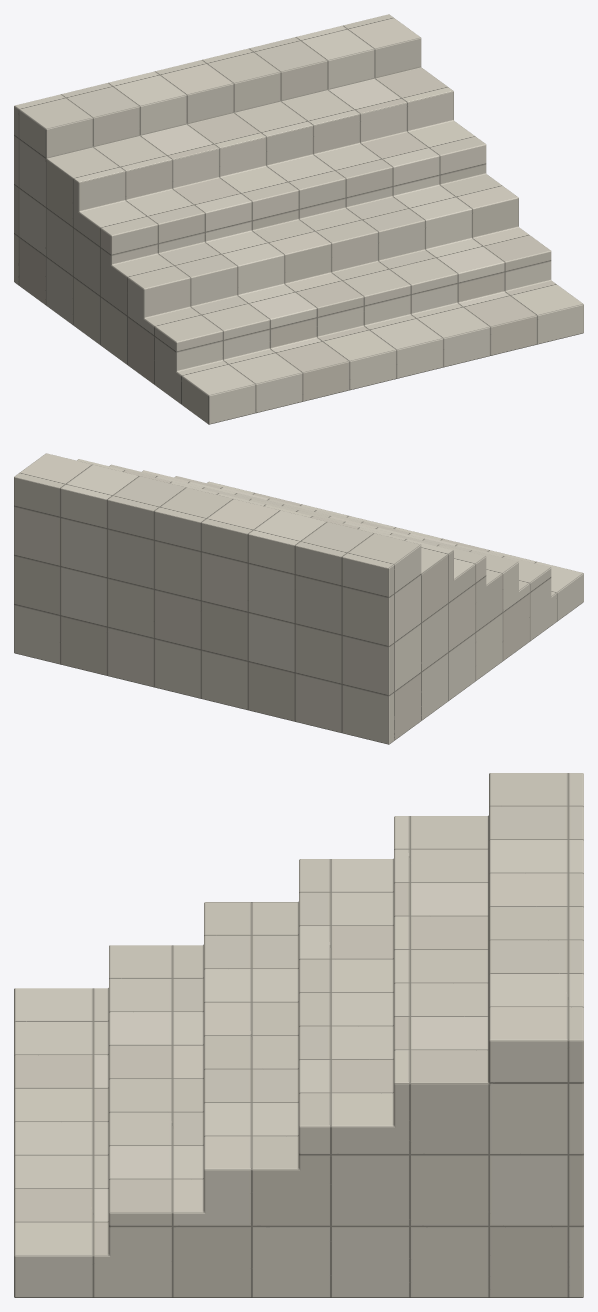
Rendered from MOD_32_Stairs_RaisedPlatform.glb.
3 renders of one model, top to bottom at view 1: azimuth 30°, elevation 25°; view 2: azimuth 150°, elevation 25°; view 3: azimuth 270°, elevation 25°, orthographic. The views are drawn at different scales.
Visible parts, largest first — view 1: MOD_32_Stairs_RaisedPlatform_Export; view 2: MOD_32_Stairs_RaisedPlatform_Export; view 3: MOD_32_Stairs_RaisedPlatform_Export.
Boxes of the visible parts, x1,y1,x2,y2 form: MOD_32_Stairs_RaisedPlatform_Export: [14, 14, 583, 424]; MOD_32_Stairs_RaisedPlatform_Export: [14, 453, 583, 744]; MOD_32_Stairs_RaisedPlatform_Export: [14, 773, 583, 1297].
Bounding box in the file's own units: 2 × 0.9 × 1.8.
Materials: 1 (1 with a texture image).
